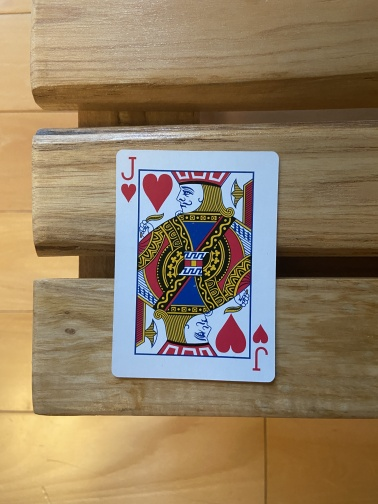jack: (110, 148, 281, 384)
